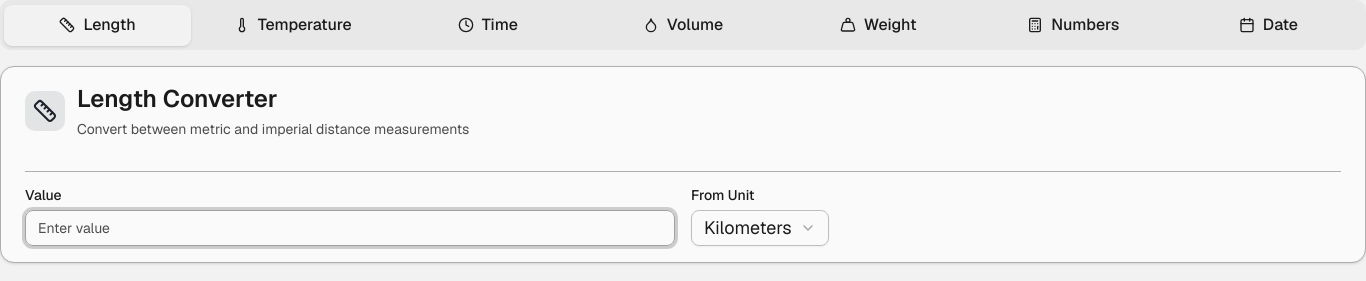
Test case: CategoryTabs Integration › switches to volume converter when volume tab is clicked
The image size is (1366, 281).
Click on volume tab
Step 1. Click the tab "Volume" → point(683, 25), box [589,4,776,46]
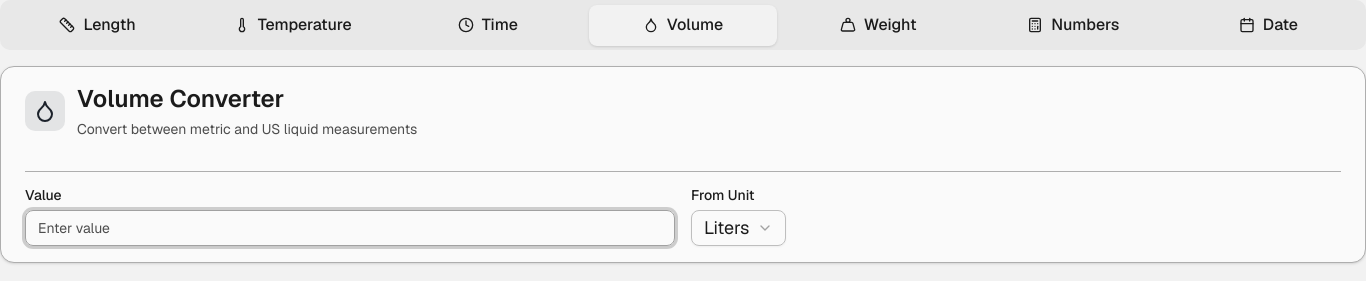
Now the text "Volume Converter" is shown, box [77,83,284,114]
